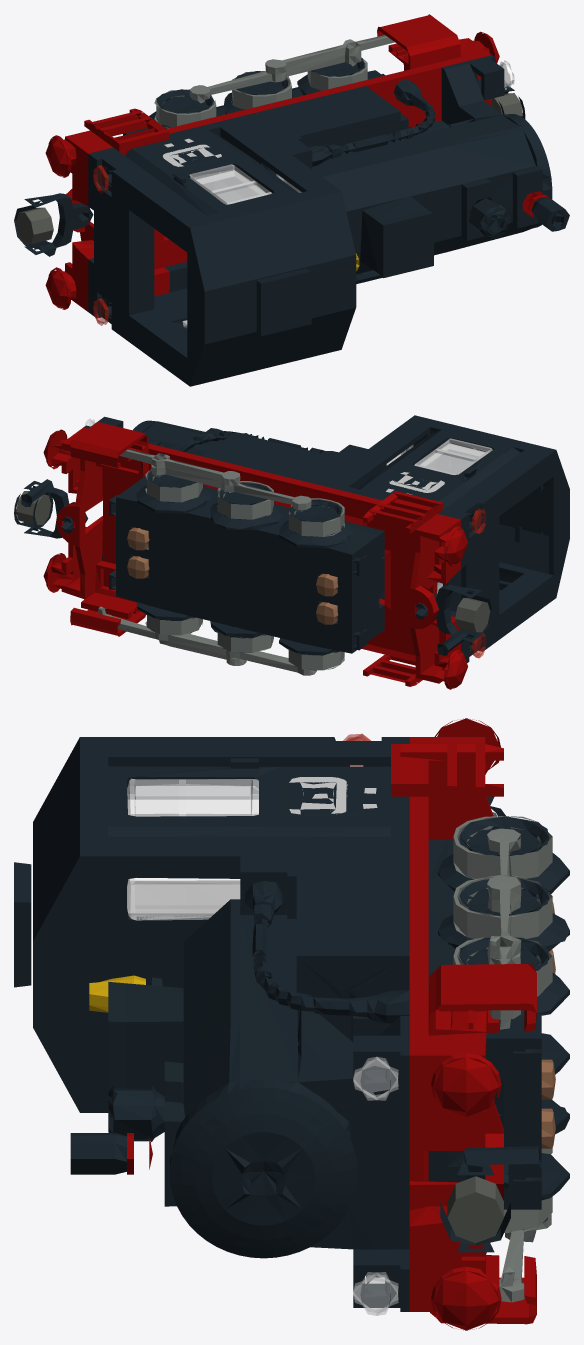
The model's file is locomotive.glb.
3 renders of one model, top to bottom at view 1: azimuth 30°, elevation 25°; view 2: azimuth 150°, elevation 25°; view 3: azimuth 270°, elevation 25°, orthographic. The views are drawn at different scales.
Size of the model in its own units: 155 by 60.03 by 94.4.
